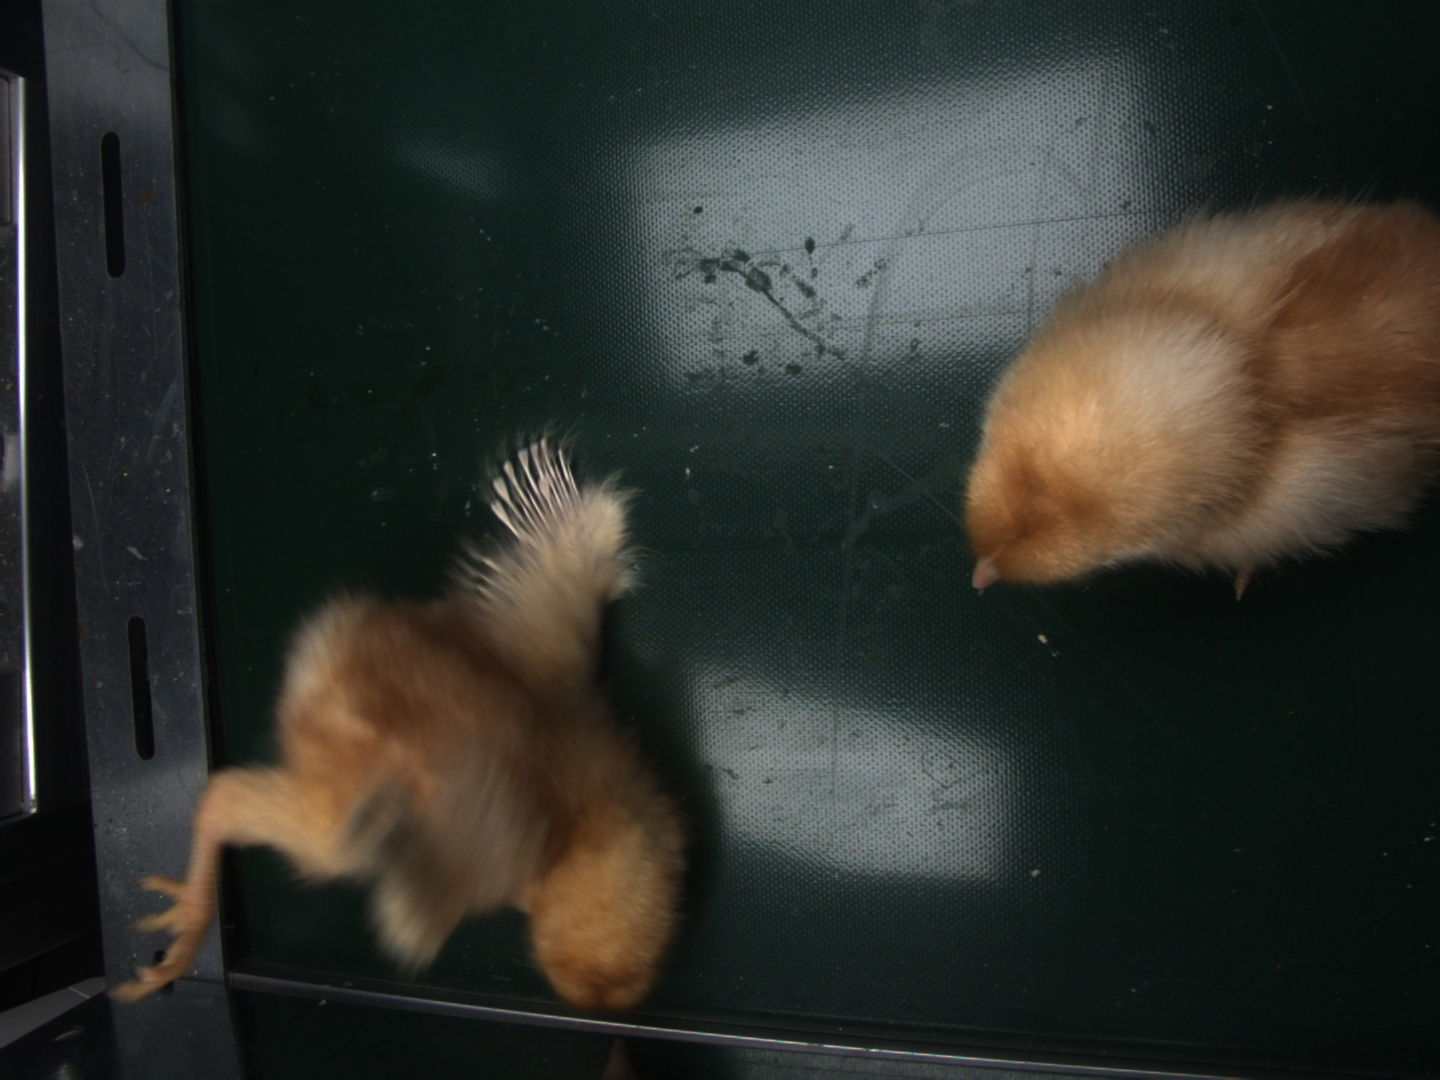female: (485, 436, 581, 543)
